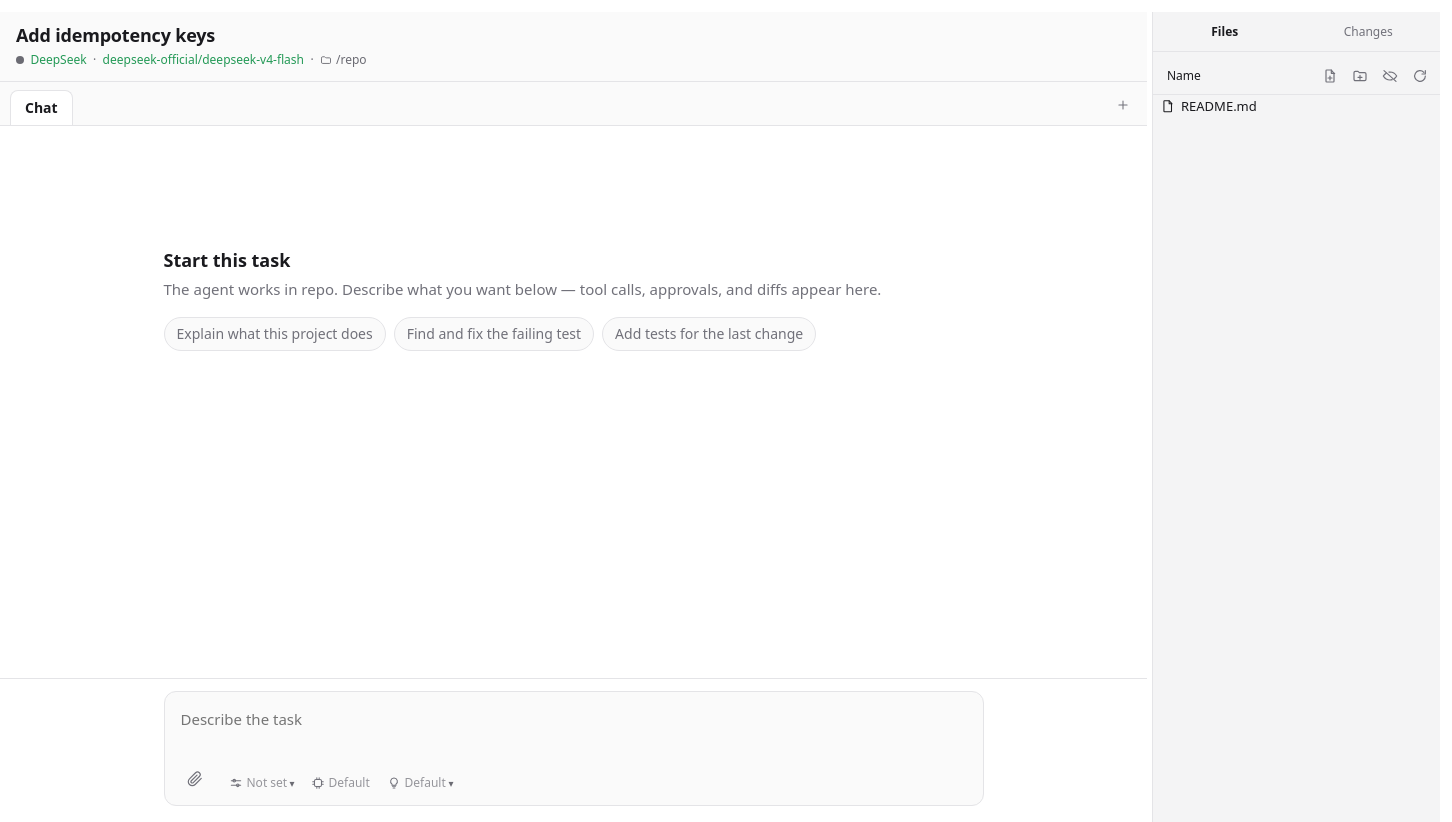
it: the explorer sidebar › opens a file as a tab in the content area
Click the button "README.md" at (1219, 106), box [1153,95,1440,117]
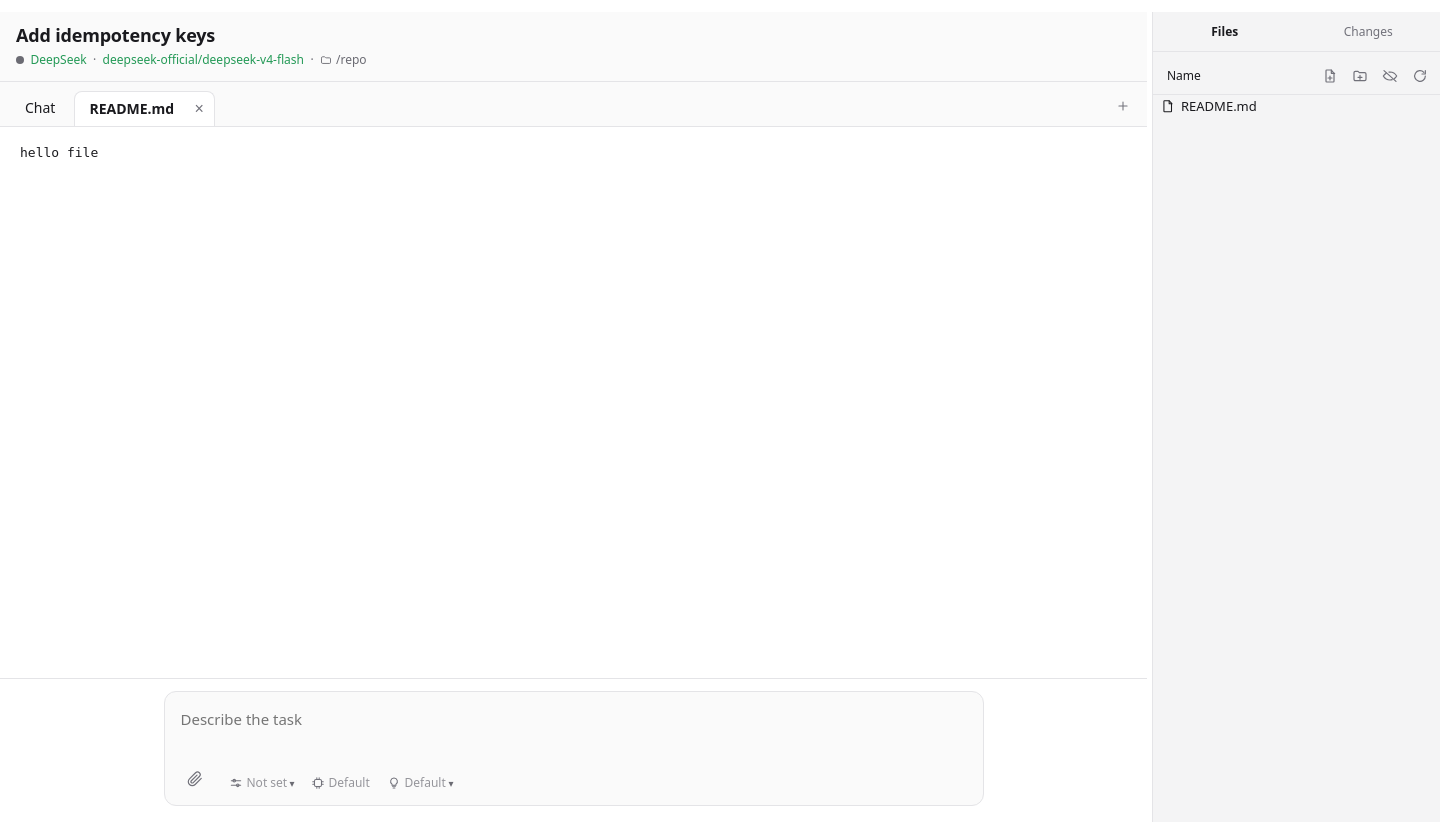
Expected: the tab "Chat" is shown, [10,90,70,126]
Expected: the text "hello file" is shown, [20,145,98,160]
